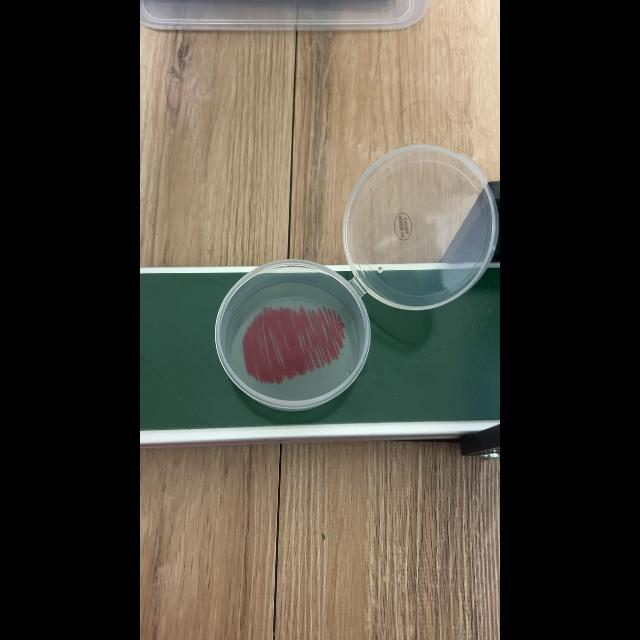dirty: (218, 276, 364, 398)
